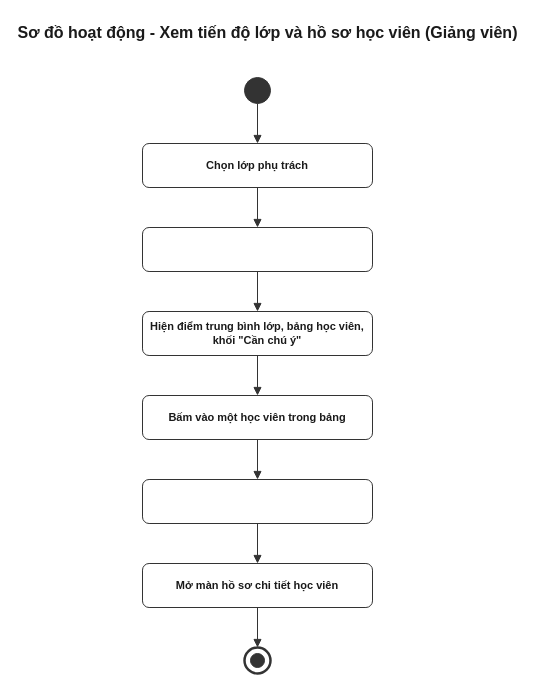
This 534x692 diagram has some shape labels left out. Each missing label, with the box of its shape:
Hệ thống đọc bài đã giải, tỉ lệ chấp thuận và chuỗi ngày hoạt động theo học viên: (142, 226, 372, 272)
Hệ thống đọc tiến độ, điểm tốt nhất mỗi bài và lịch sử nộp bài của học viên đó: (142, 478, 372, 524)
